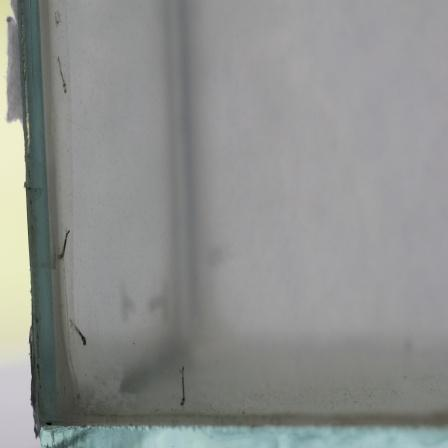Jentik-Nyamuk: (172, 363, 191, 411), (53, 52, 71, 97), (68, 313, 90, 348), (53, 225, 72, 262)
